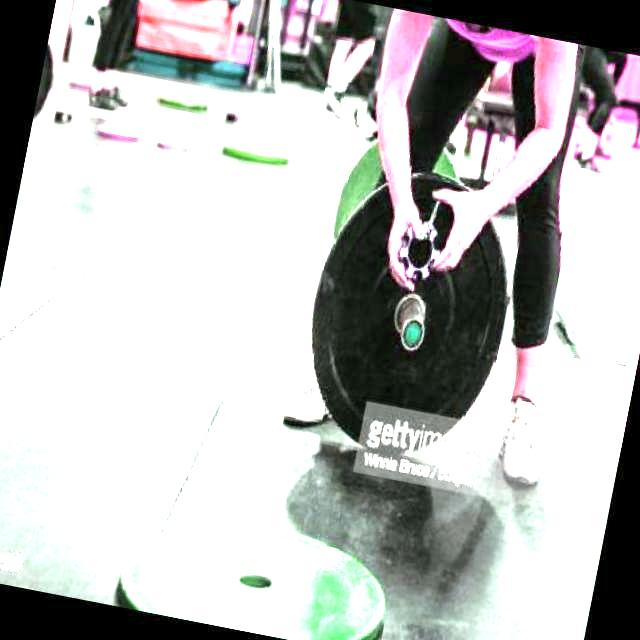barbell: (277, 145, 542, 480)
